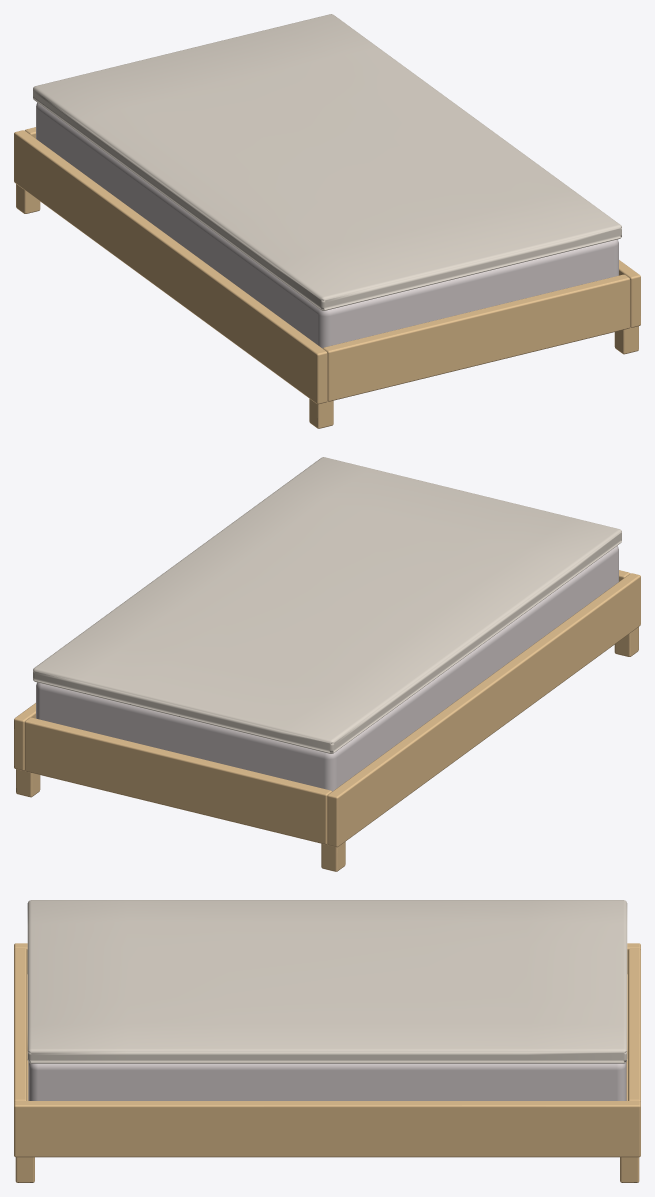
Rendered from bed_semidouble.glb.
3 renders of one model, top to bottom at view 1: azimuth 30°, elevation 25°; view 2: azimuth 150°, elevation 25°; view 3: azimuth 270°, elevation 25°, orthographic. The views are drawn at different scales.
Parts seen in each view (by area): view 1: bed_semidouble; view 2: bed_semidouble; view 3: bed_semidouble.
Part boxes in pixels (left/top/right/bottom): bed_semidouble: left=14, top=14, right=640, bottom=428; bed_semidouble: left=14, top=457, right=640, bottom=871; bed_semidouble: left=14, top=900, right=640, bottom=1182.
Bounding box in the file's own units: 1.2 × 0.45 × 1.95.
